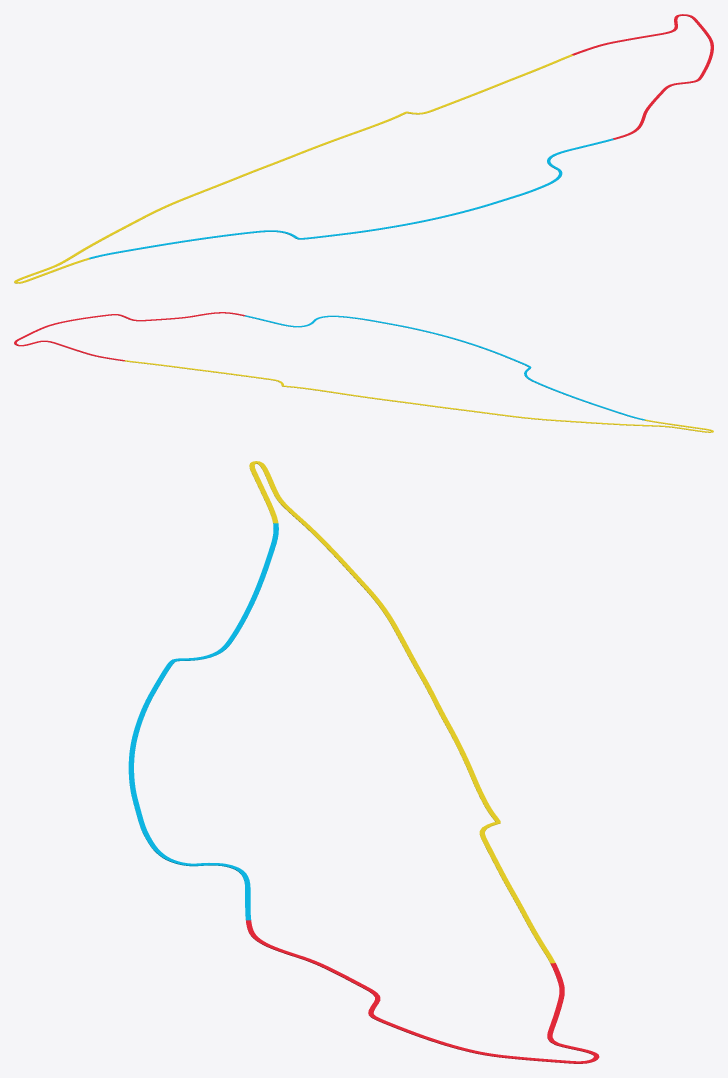
File: MontrealSectors.glb
3 views of the same model, one above another, from view 1: azimuth 30°, elevation 25°; view 2: azimuth 150°, elevation 25°; view 3: azimuth 270°, elevation 25° (orthographic). The views are drawn at different scales.
Visible parts, largest first — view 1: SectorStrip_3, SectorStrip_2, SectorStrip_1; view 2: SectorStrip_3, SectorStrip_2, SectorStrip_1; view 3: SectorStrip_3, SectorStrip_2, SectorStrip_1.
Boxes of the visible parts, box(x1,y1,x2,y2) form: SectorStrip_3: box(14, 54, 573, 283); SectorStrip_2: box(89, 138, 613, 259); SectorStrip_1: box(571, 14, 713, 139); SectorStrip_3: box(124, 360, 713, 432); SectorStrip_2: box(244, 315, 644, 420); SectorStrip_1: box(14, 312, 245, 361); SectorStrip_3: box(249, 461, 555, 963); SectorStrip_2: box(128, 523, 278, 920); SectorStrip_1: box(246, 920, 599, 1063).
Bounding box in the file's own units: 15.92 × 0.006 × 5.26.
